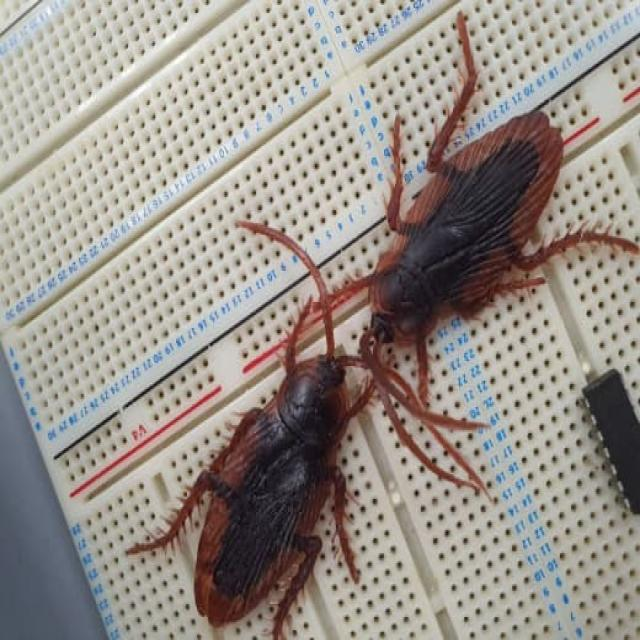Cockroach: (336, 32, 640, 406), (123, 258, 389, 627)
